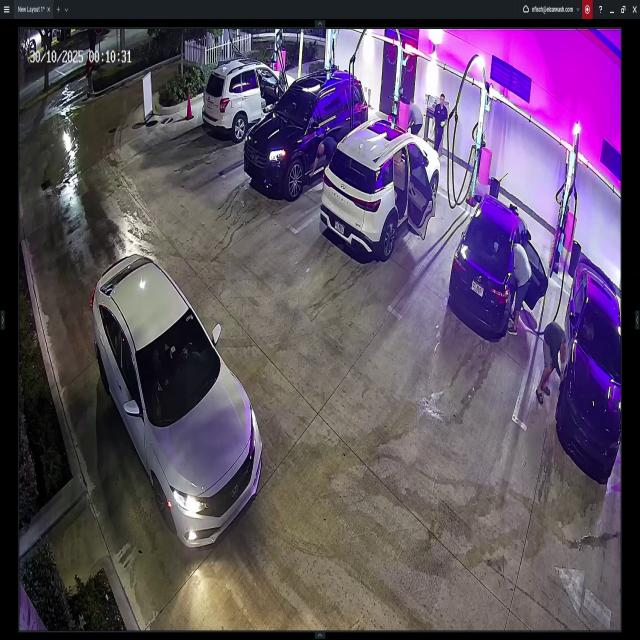Car: (90, 249, 262, 549), (319, 118, 440, 259), (450, 191, 546, 344), (560, 254, 624, 480), (247, 71, 366, 191), (204, 52, 298, 134)
